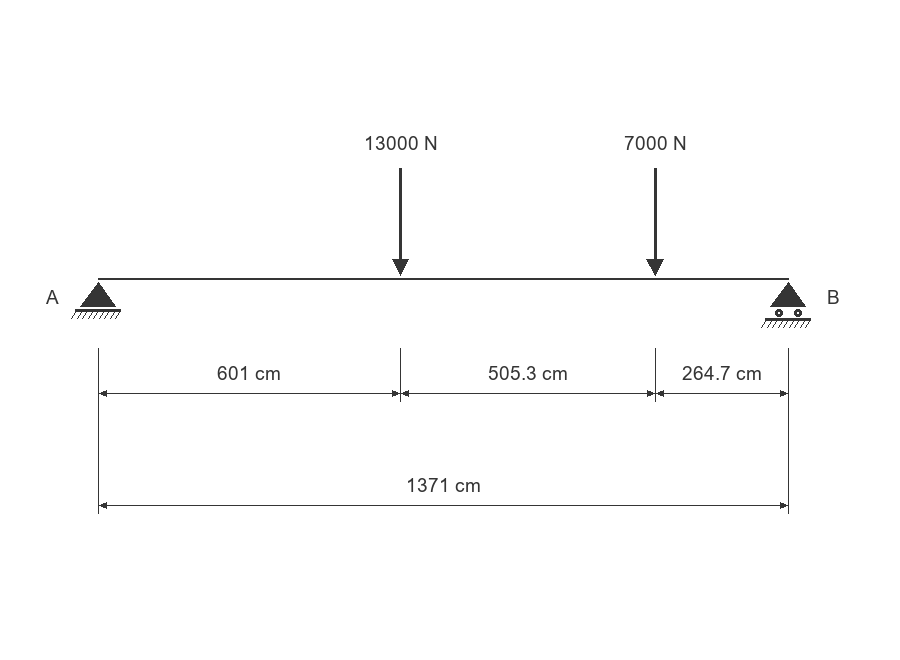pin_support: (71, 282, 121, 319)
point_load: (646, 168, 664, 276), (392, 168, 409, 276)
roller_support: (761, 282, 811, 328)
